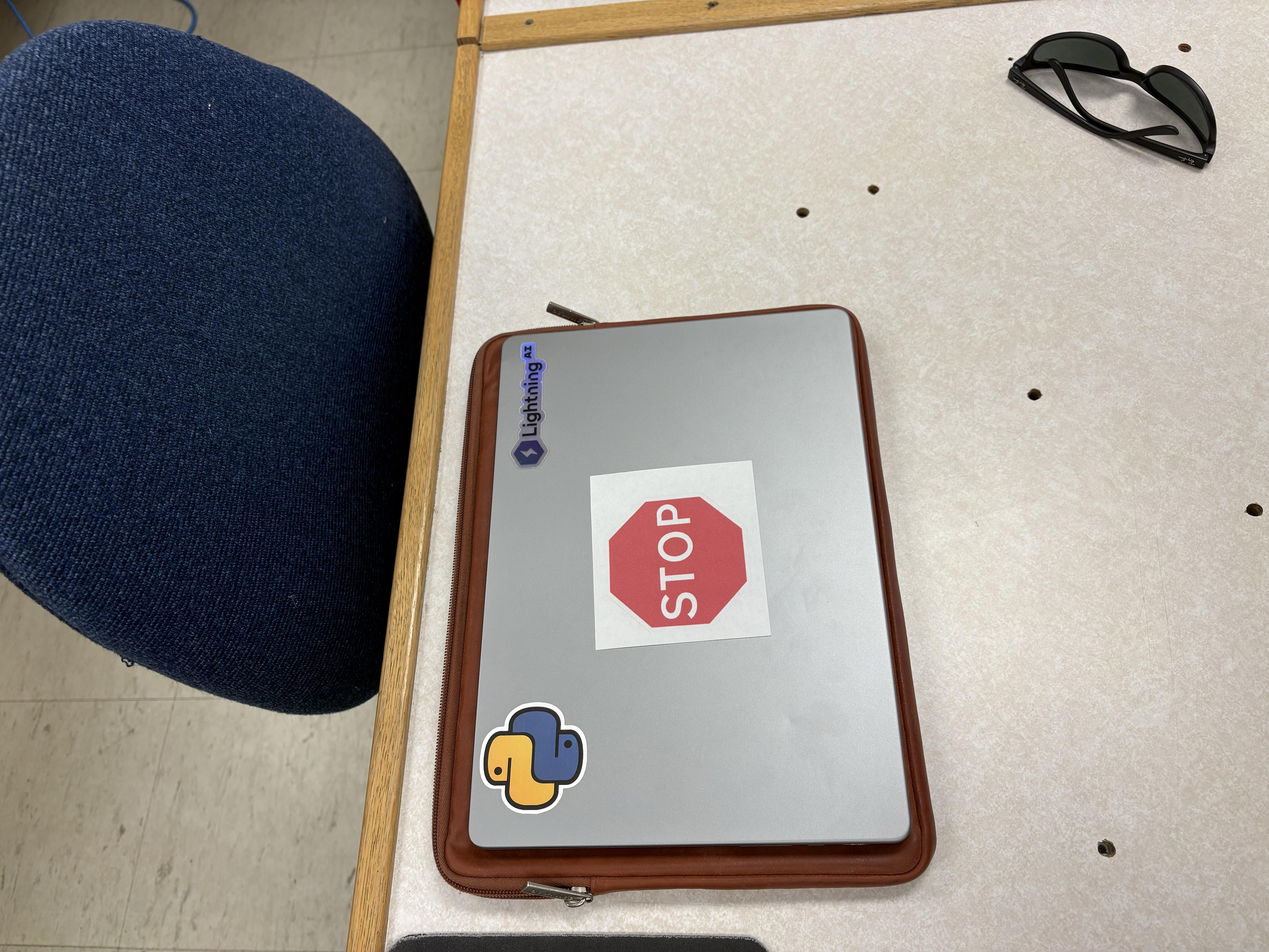Stop: (591, 456, 780, 658)
